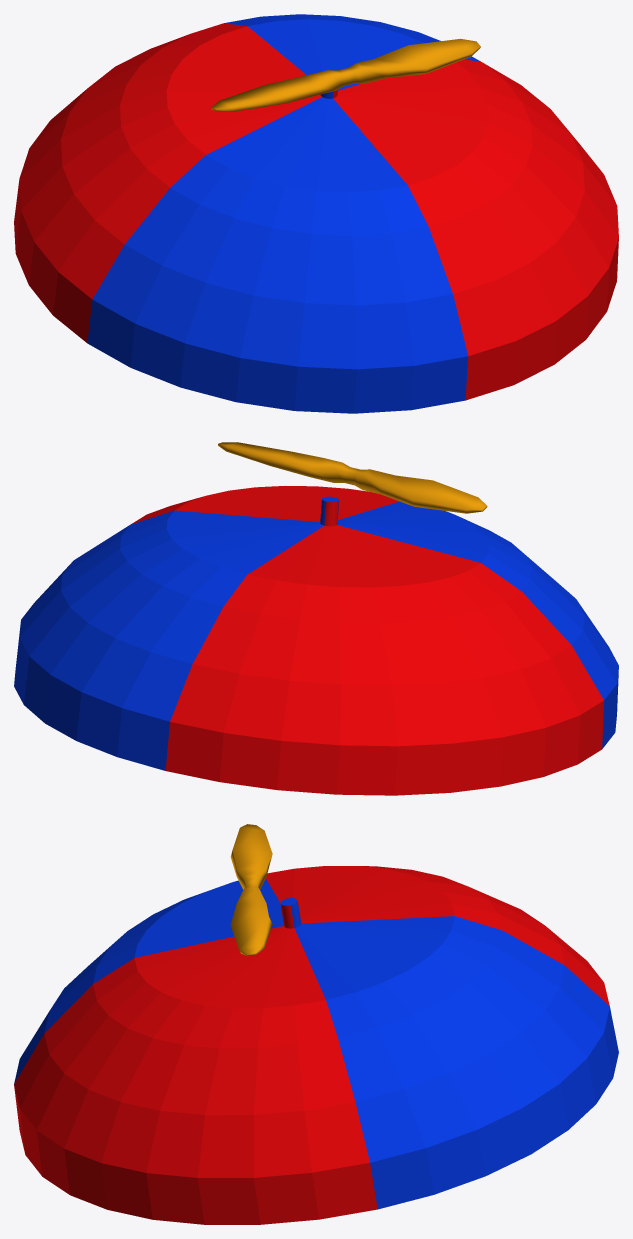
Rendered from model_helice.glb.
3 renders of one model, top to bottom at view 1: azimuth 30°, elevation 25°; view 2: azimuth 150°, elevation 25°; view 3: azimuth 270°, elevation 25°, orthographic.
Visible parts, largest first — view 1: model_helice, helice; view 2: model_helice, helice; view 3: model_helice, helice.
Boxes of the visible parts, box(x1,y1,x2,y2) form: model_helice: box(14, 14, 618, 413); helice: box(211, 38, 480, 111); model_helice: box(14, 486, 618, 795); helice: box(218, 442, 487, 513); model_helice: box(14, 866, 618, 1224); helice: box(230, 824, 272, 956).
Bounding box in the file's own units: 0.5118 × 0.2306 × 0.5113.
